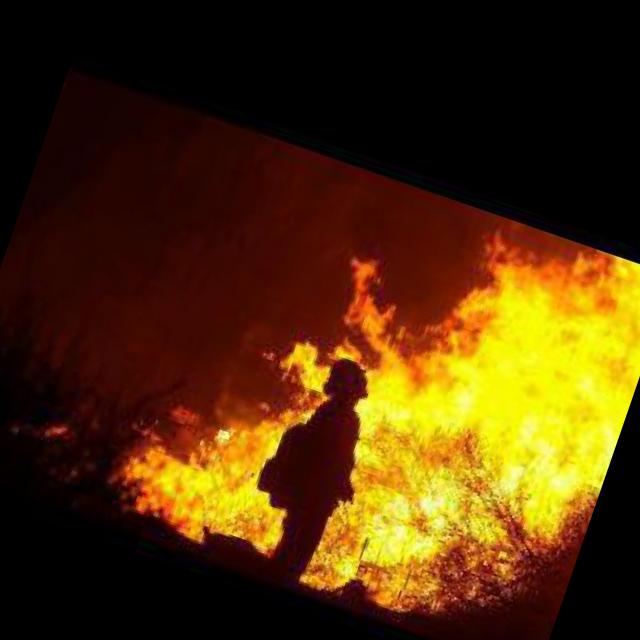fire: (87, 119, 640, 640)
